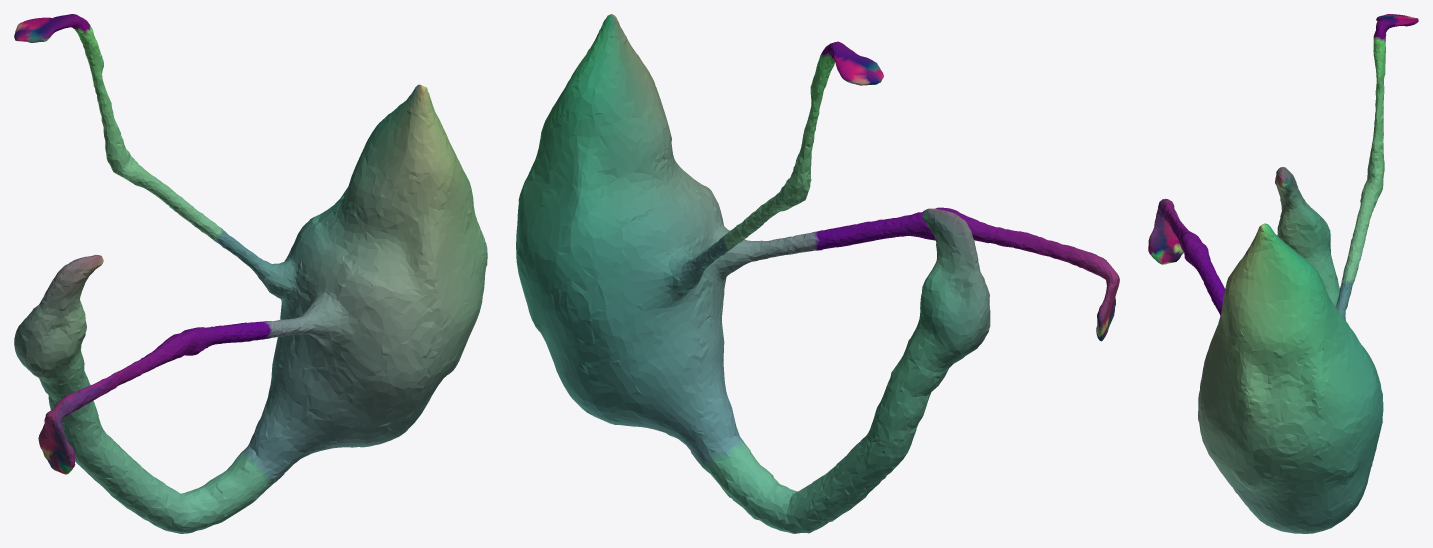
The model's file is flamingo-6.off.obj.
3 views of the same model, side by side, from view 1: azimuth 30°, elevation 25°; view 2: azimuth 150°, elevation 25°; view 3: azimuth 270°, elevation 25° (orthographic). The views are drawn at different scales.
Size of the model in its own units: 1.24 by 1.23 by 0.66.
